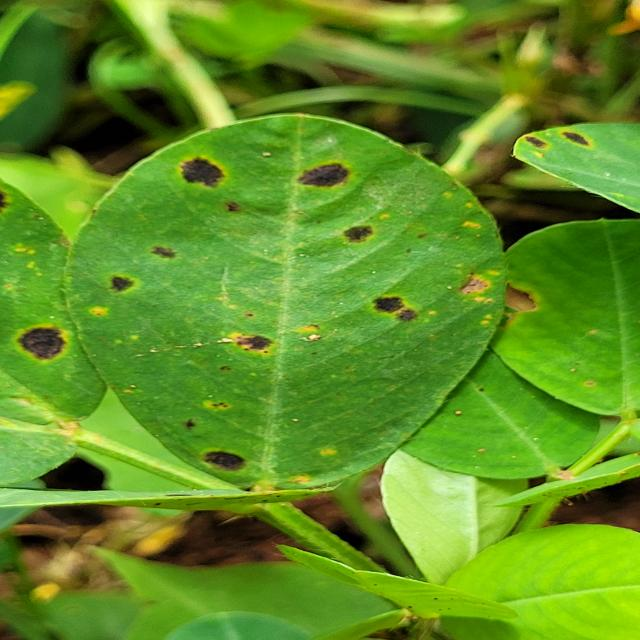Ground nut_tikka leaf spot: (63, 112, 515, 496)
